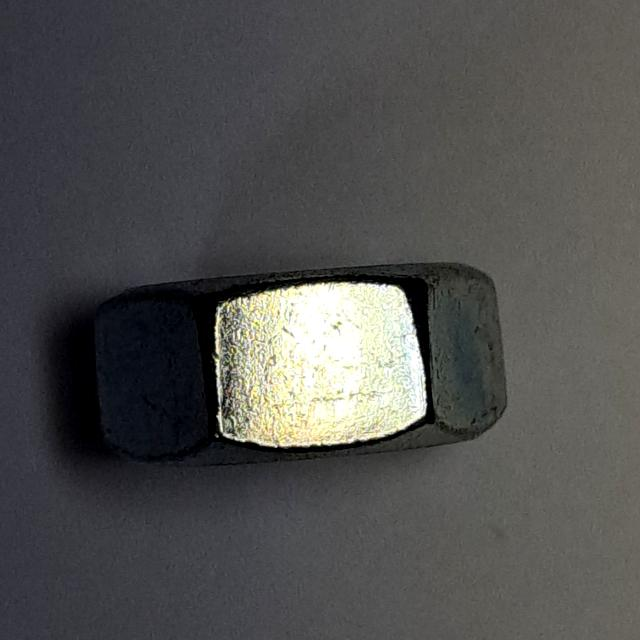Side_Excellent: (77, 243, 518, 491)
